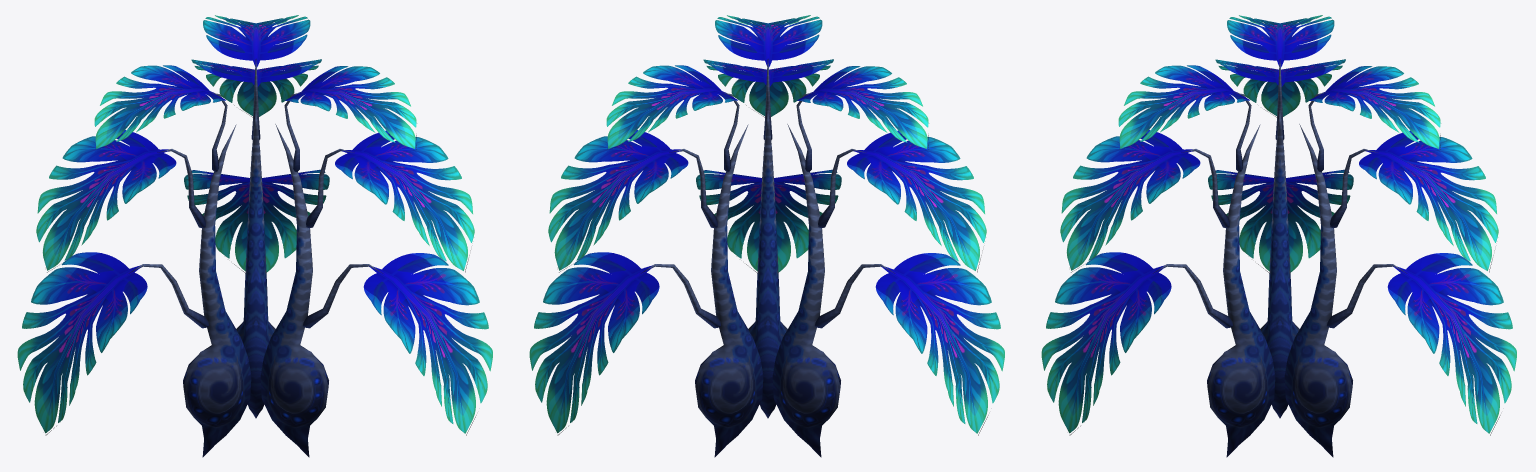
Rendered from Blue_Tree_03a.FBX.
The picture shows the model from 3 angles, left to right: view 1: azimuth 30°, elevation 25°; view 2: azimuth 150°, elevation 25°; view 3: azimuth 270°, elevation 25°; orthographic projection.
Parts seen in each view (by area): view 1: Blue_Tree_03a; view 2: Blue_Tree_03a; view 3: Blue_Tree_03a.
Part boxes in pixels (left/top/right/bottom): Blue_Tree_03a: left=17, top=15, right=492, bottom=457; Blue_Tree_03a: left=529, top=15, right=1004, bottom=457; Blue_Tree_03a: left=1041, top=15, right=1516, bottom=457.
Size of the model in its own units: 203 by 201 by 232.
